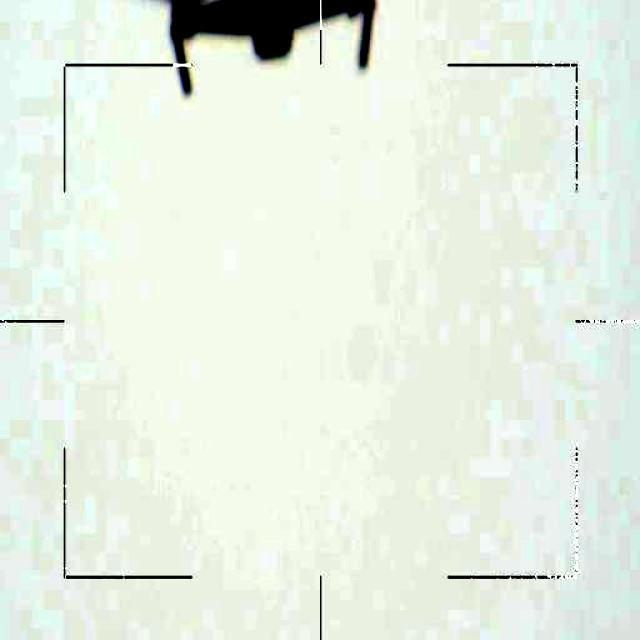bird: (130, 0, 401, 96)
